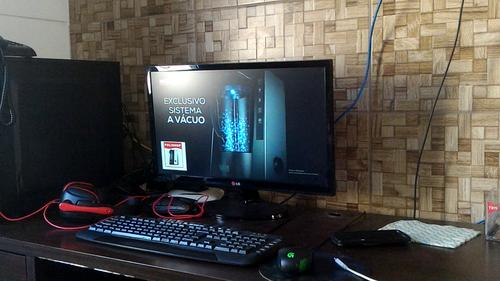Polishop #1: (159, 138, 187, 170)
